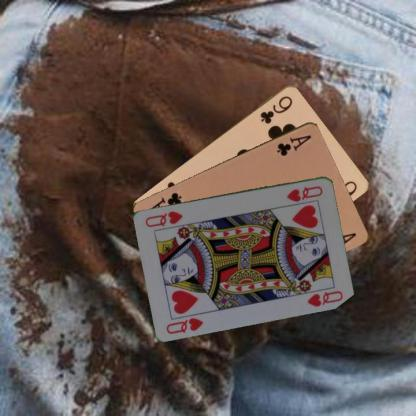9c: (257, 92, 294, 125)
Ac: (274, 132, 312, 157)
Qh: (284, 182, 324, 203), (164, 314, 204, 335)
